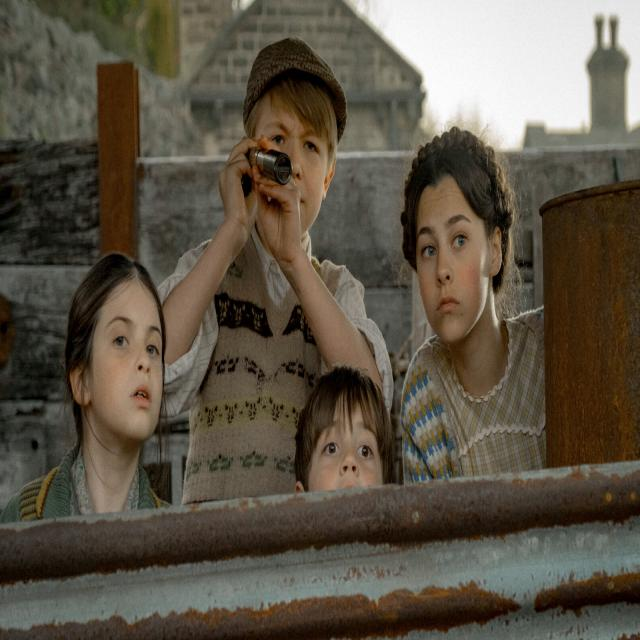adult: (158, 37, 391, 499), (399, 121, 545, 488)
child: (2, 249, 168, 524), (295, 368, 398, 494)
